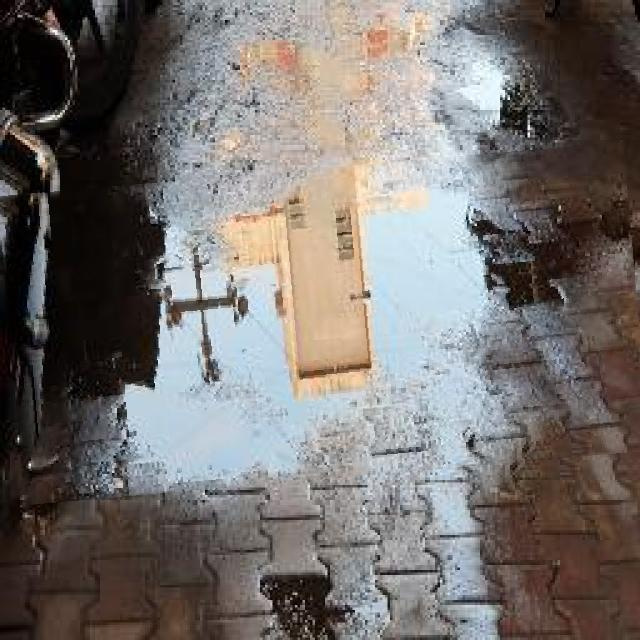puddle: (5, 156, 640, 493)
